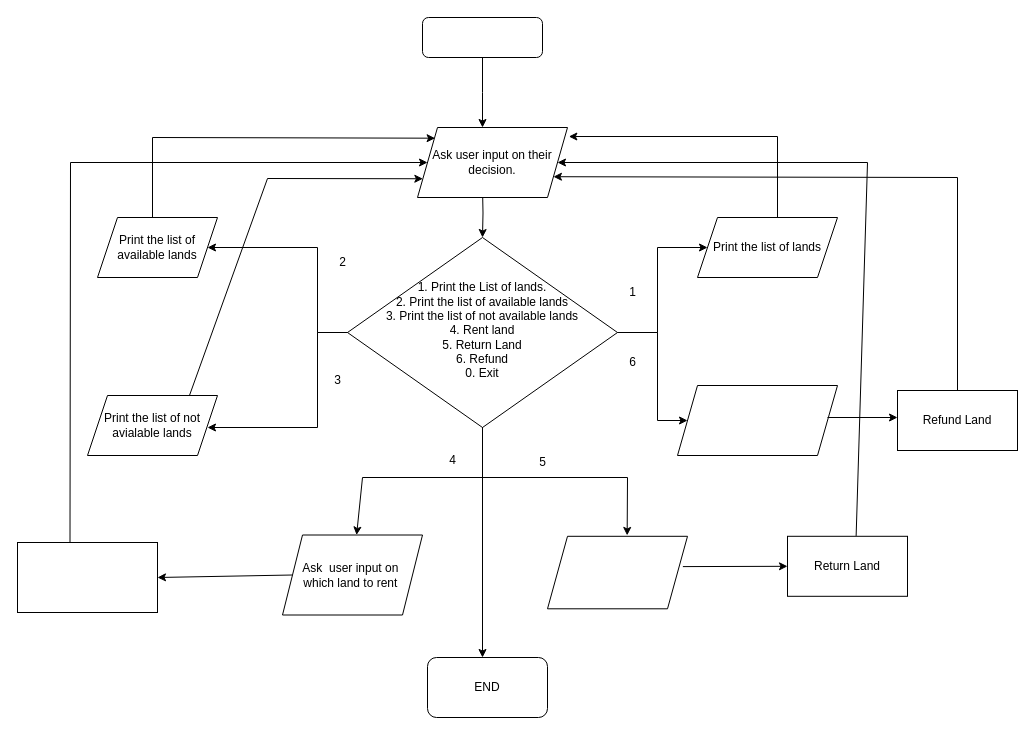
The diagram is 1035 pixels wide and 735 high, and some of its shapes have lost their labels. Each missing label, with the centre of its shape:
Ask user input on refund: pixel 757 420
Ask user input on which land to return: pixel 617 572
Rent Land: pixel 87 577
Start: pixel 482 37
